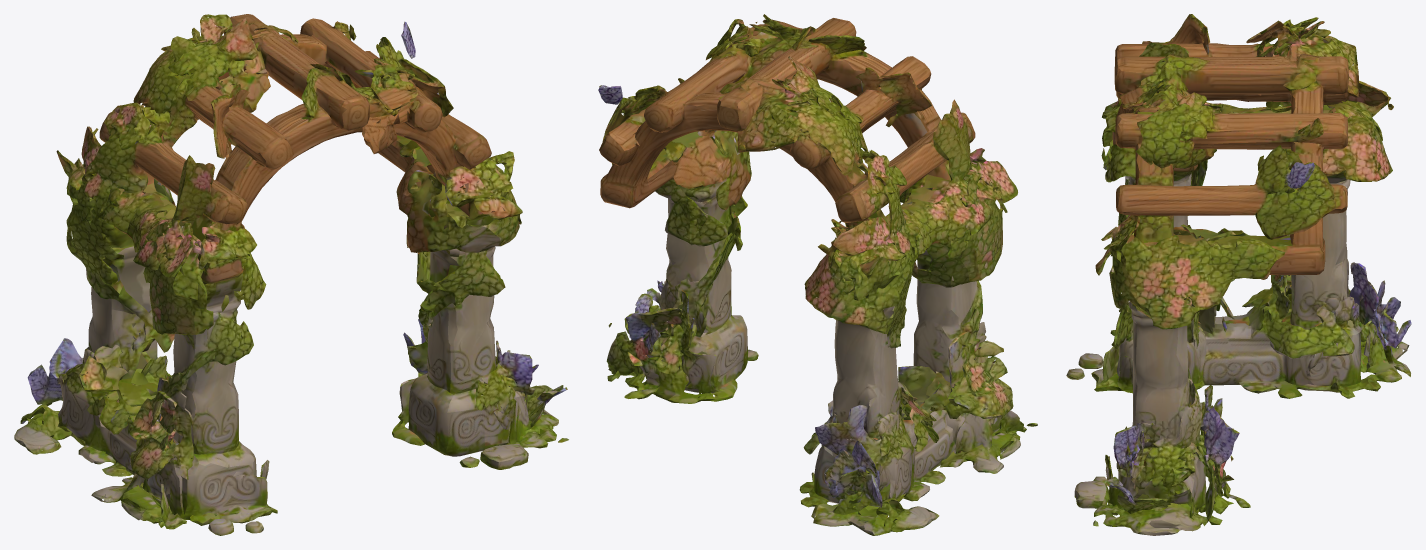
Rendered from origin_meadow_arbor.glb.
3 views of the same model, side by side, from view 1: azimuth 30°, elevation 25°; view 2: azimuth 150°, elevation 25°; view 3: azimuth 270°, elevation 25° (orthographic). The views are drawn at different scales.
Visible parts, largest first — view 1: textured_mesh.obj; view 2: textured_mesh.obj; view 3: textured_mesh.obj.
Part boxes in pixels (left/top/right/bottom): textured_mesh.obj: left=14, top=14, right=568, bottom=535; textured_mesh.obj: left=598, top=14, right=1037, bottom=535; textured_mesh.obj: left=1066, top=14, right=1411, bottom=535.
Size of the model in its own units: 1.98 by 1.84 by 1.42.
Materials: 1 (1 with a texture image).
